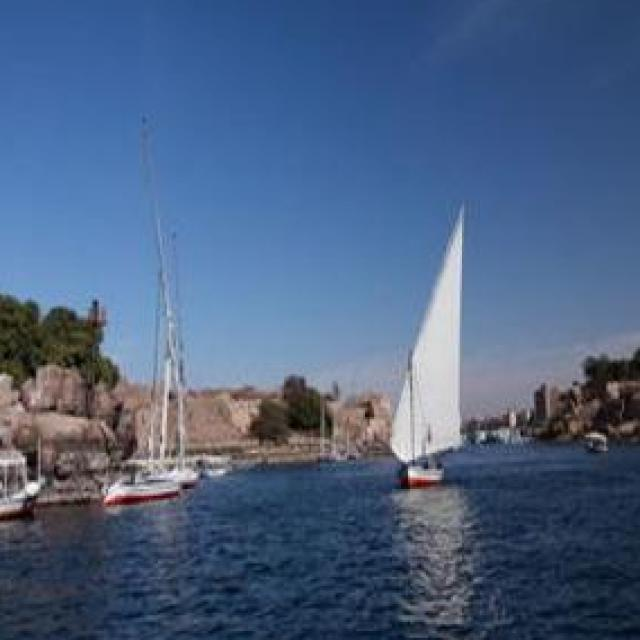sailboat: (342, 203, 491, 494)
